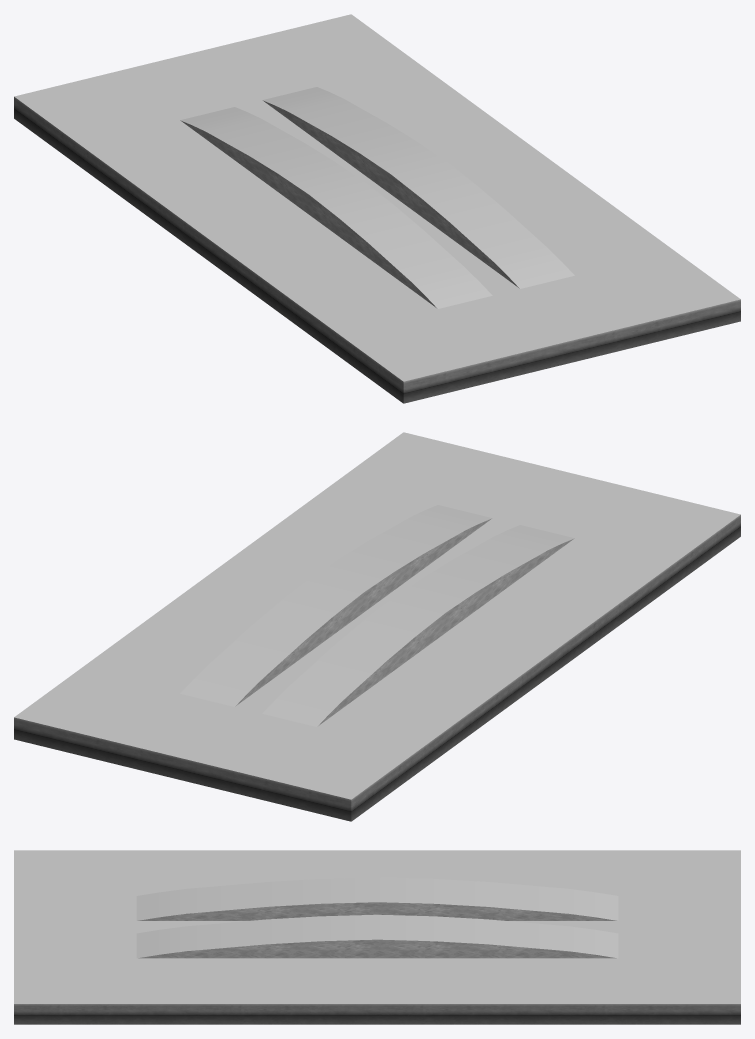
The model's file is Ramps02.fbx.
The picture shows the model from 3 angles, top to bottom: view 1: azimuth 30°, elevation 25°; view 2: azimuth 150°, elevation 25°; view 3: azimuth 270°, elevation 25°; orthographic projection. The views are drawn at different scales.
Visible parts, largest first — view 1: Empty_Mesh; view 2: Empty_Mesh; view 3: Empty_Mesh.
Part boxes in pixels (bbox=[...]): Empty_Mesh: bbox=[14, 14, 740, 403]; Empty_Mesh: bbox=[14, 432, 740, 821]; Empty_Mesh: bbox=[14, 850, 740, 1024].
Size of the model in its own units: 1600 by 191 by 3200.
